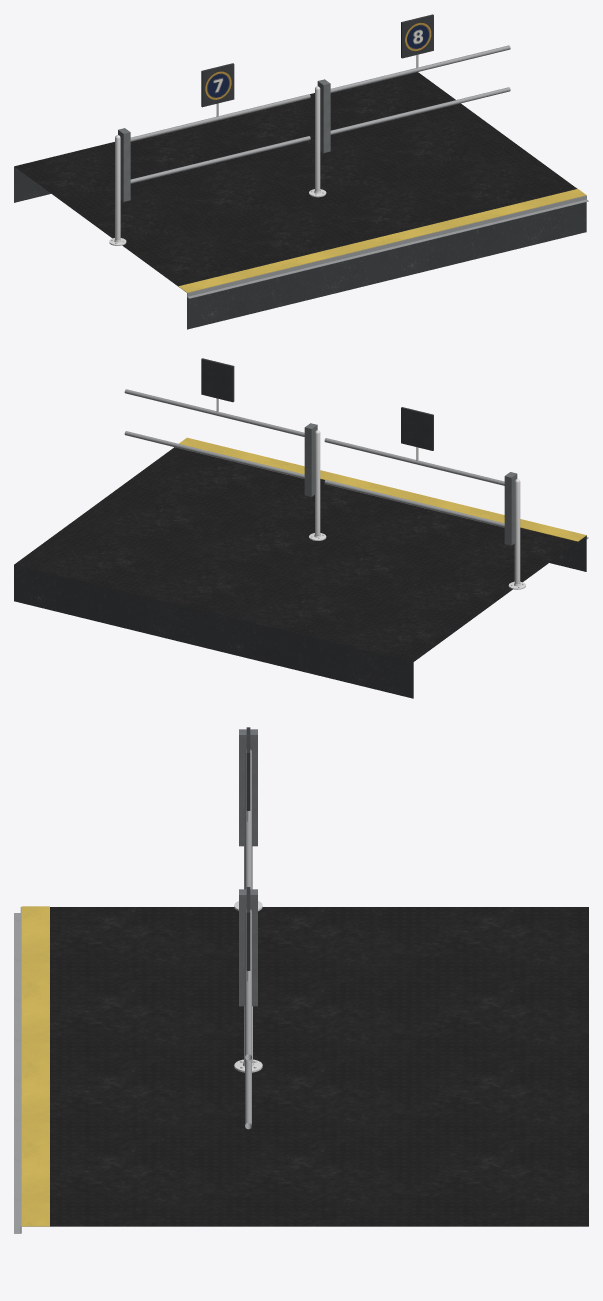
Rendered from SM_QUE_Platform_4m_Gates7-8.fbx.
3 views of the same model, one above another, from view 1: azimuth 30°, elevation 25°; view 2: azimuth 150°, elevation 25°; view 3: azimuth 270°, elevation 25° (orthographic). The views are drawn at different scales.
Visible parts, largest first — view 1: SM_QUE_Platform_4m_Gates7-8; view 2: SM_QUE_Platform_4m_Gates7-8; view 3: SM_QUE_Platform_4m_Gates7-8.
Boxes of the visible parts, x1,y1,x2,y2 form: SM_QUE_Platform_4m_Gates7-8: [14, 14, 588, 329]; SM_QUE_Platform_4m_Gates7-8: [14, 358, 588, 698]; SM_QUE_Platform_4m_Gates7-8: [14, 727, 588, 1233].
Size of the model in its own units: 4.08 by 1.79 by 3.04.
